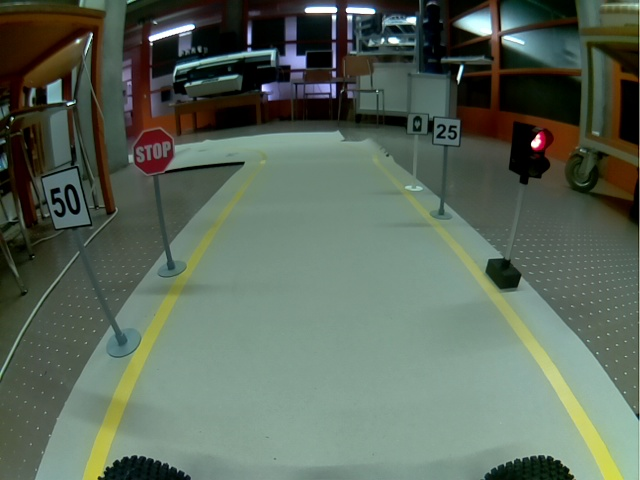battery: (406, 112, 429, 135)
speed25: (432, 116, 462, 147)
speed50: (41, 165, 93, 231)
stop: (132, 127, 176, 176)
trafficLightRed: (509, 121, 555, 179)
